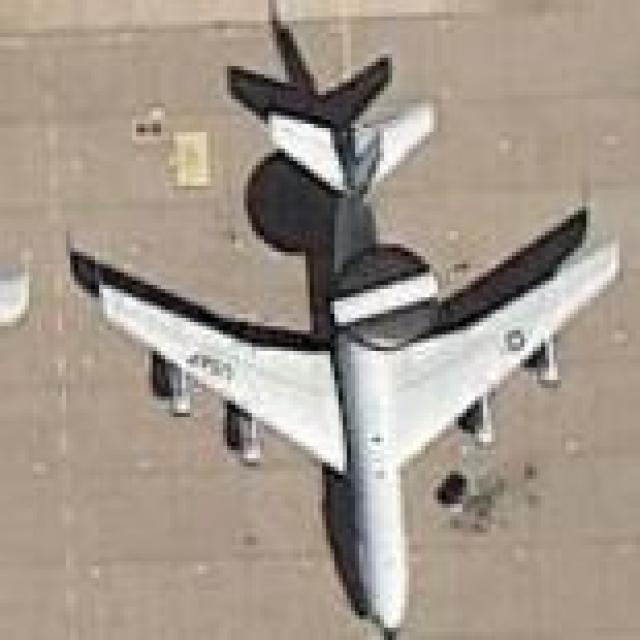E-3_TopDown: (58, 0, 623, 636)
